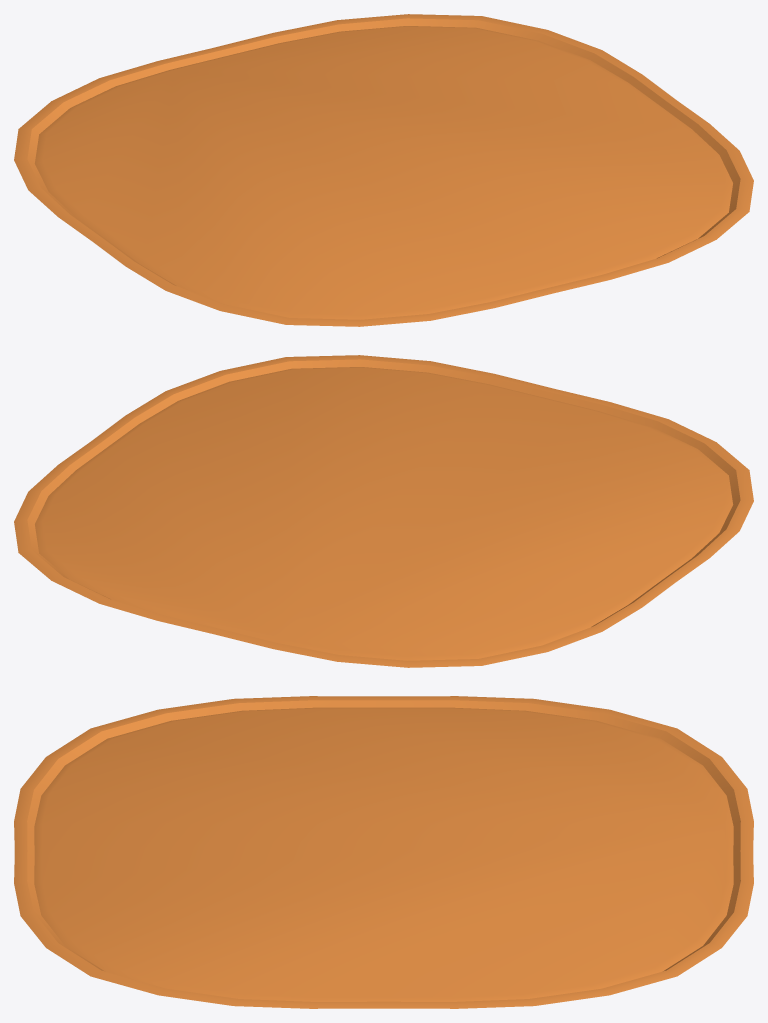
The model's file is table.fbx.
The picture shows the model from 3 angles, top to bottom: view 1: azimuth 30°, elevation 25°; view 2: azimuth 150°, elevation 25°; view 3: azimuth 270°, elevation 25°; orthographic projection. The views are drawn at different scales.
Parts seen in each view (by area): view 1: Plane.002; view 2: Plane.002; view 3: Plane.002.
Boxes of the visible parts, x1=… form: Plane.002: x1=14, y1=14, x2=753, y2=326; Plane.002: x1=14, y1=355, x2=753, y2=667; Plane.002: x1=14, y1=696, x2=753, y2=1008.
Size of the model in its own units: 21.53 by 0.1545 by 21.53.
